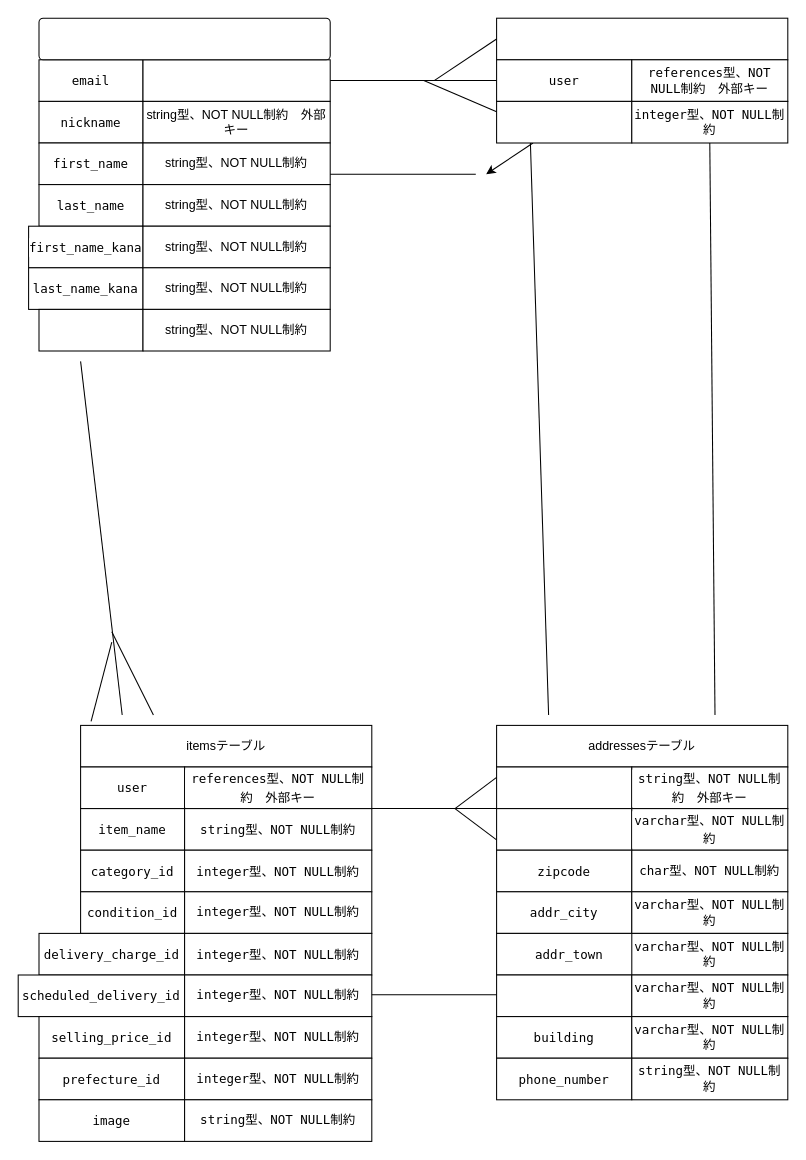
This 806x1160 diagram has some shape labels left out. Here are the shapes that lost their labels. From the top down, the centre of each, then its label:
point (184, 38): usersテーブル
point (642, 38): ordersテーブル
point (236, 80): string型、NOT NULL制約 ユニークキー
point (564, 121): item
point (90, 329): date
point (564, 787): name
point (564, 829): prefecture_name
point (564, 995): addr_num
